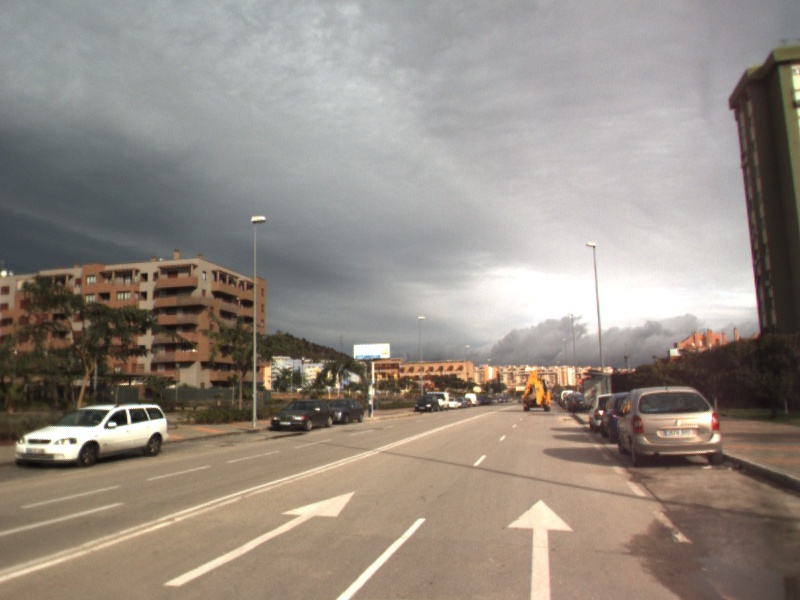STRAIGHT: (161, 489, 357, 589), (504, 497, 577, 600)
